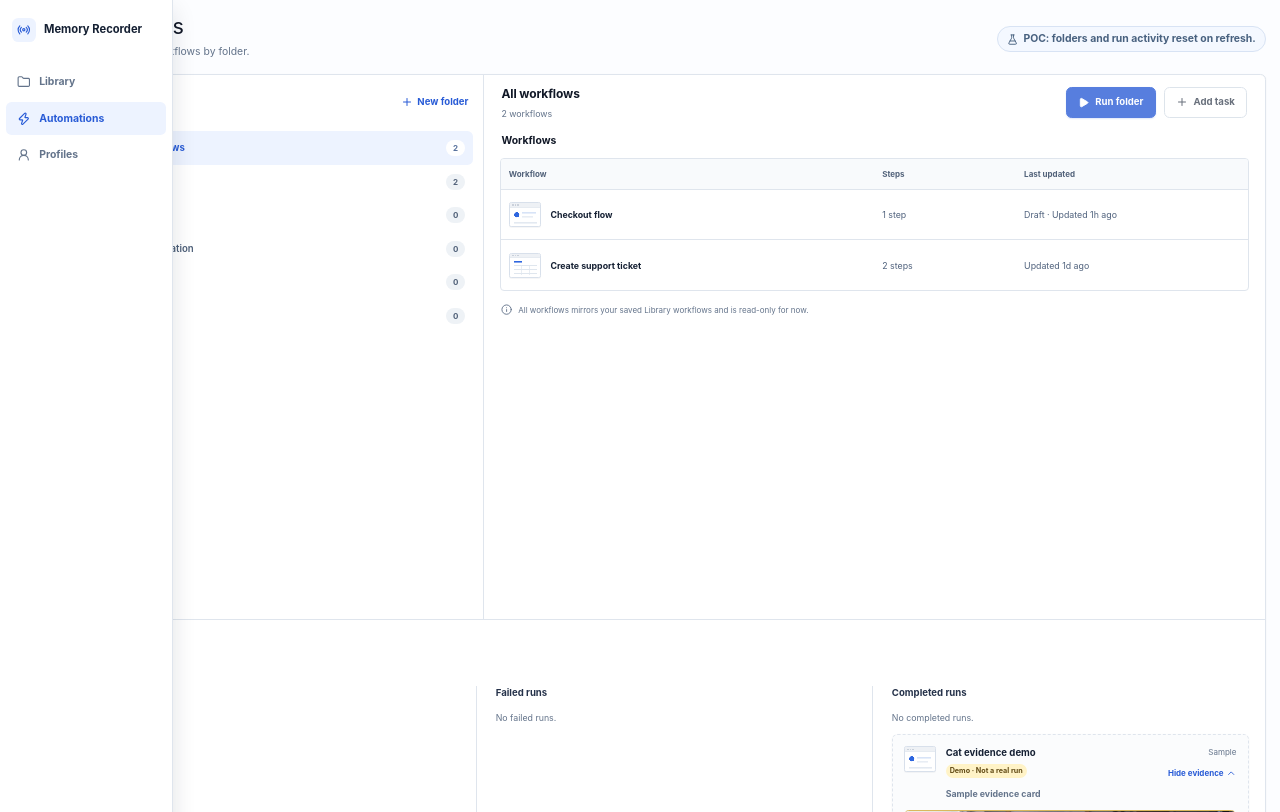
Test case: AutomationsScreen › keeps folder creation and real workflow movement in the current session
The image size is (1280, 812).
Expected: the text "Create support ticket" is shown, [550,259,641,272]
Click the button "New folder" at coordinates (435, 102), box [401,88,468,117]
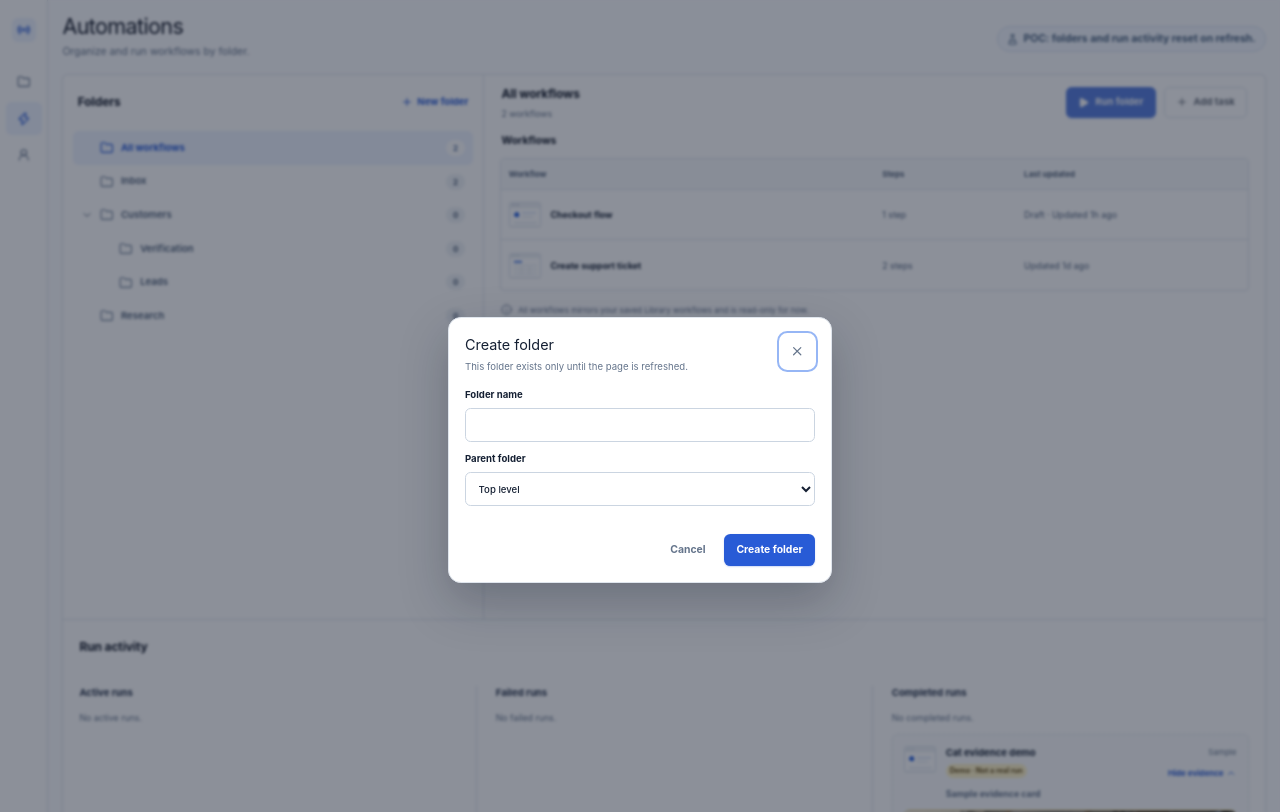
Type "Renewals" into the field labelled "Folder name" at coordinates (640, 425), box [465,408,815,442]
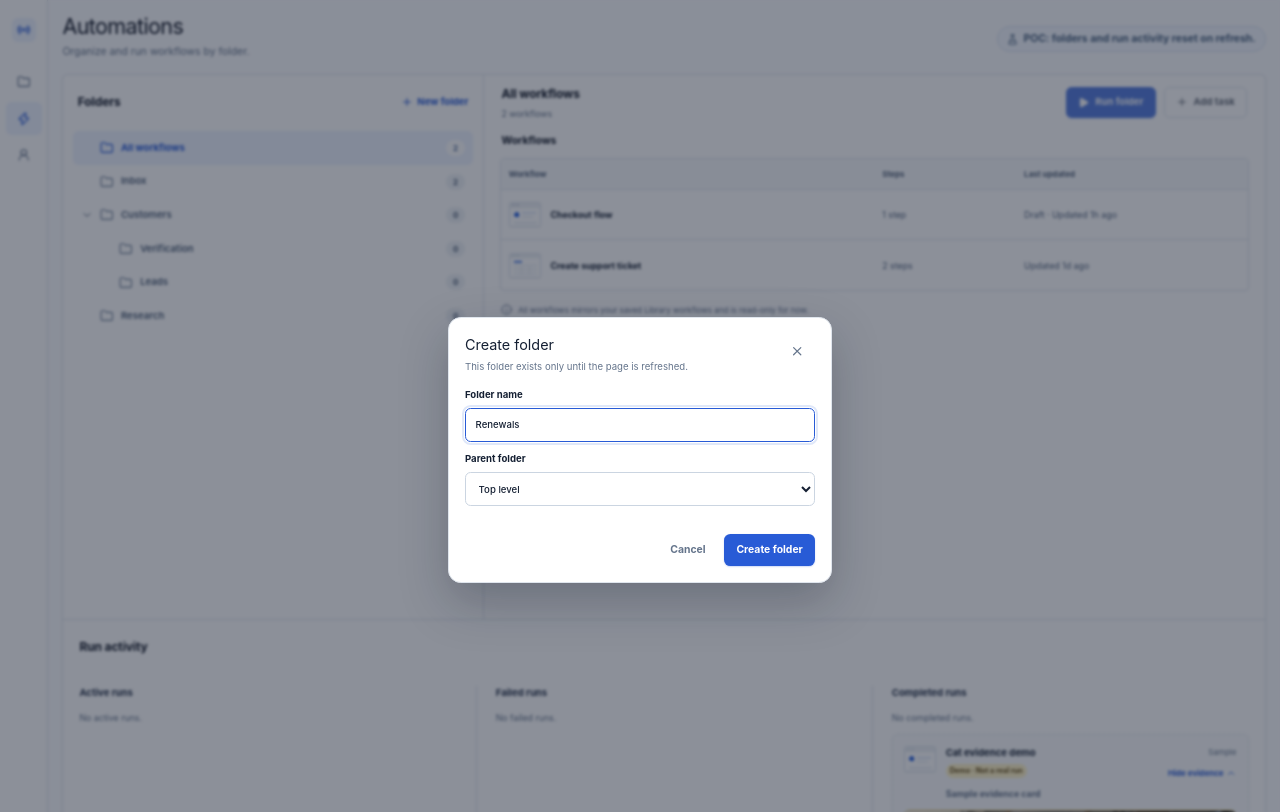
Click the button "Create folder" at coordinates (770, 550), box [724,534,815,566]
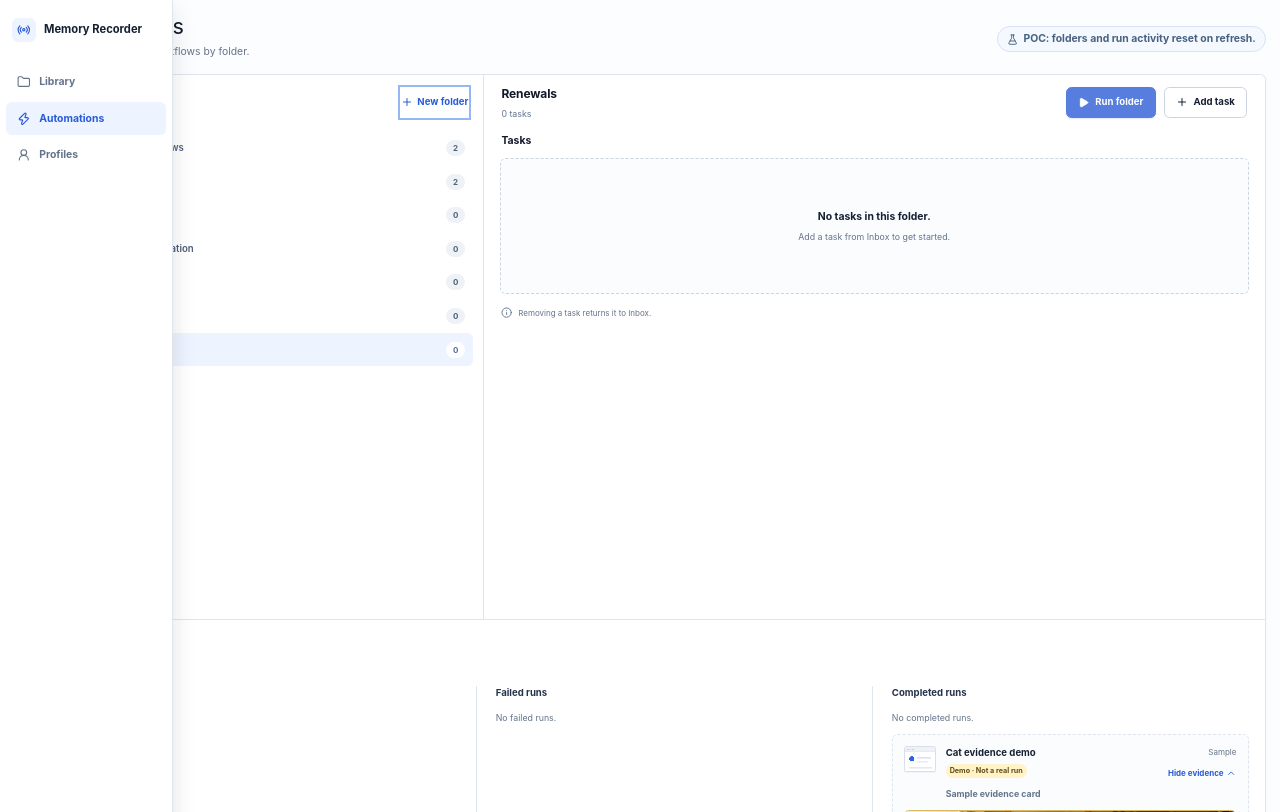
Click the button "Add task" at coordinates (1205, 102), box [1164,87,1247,118]
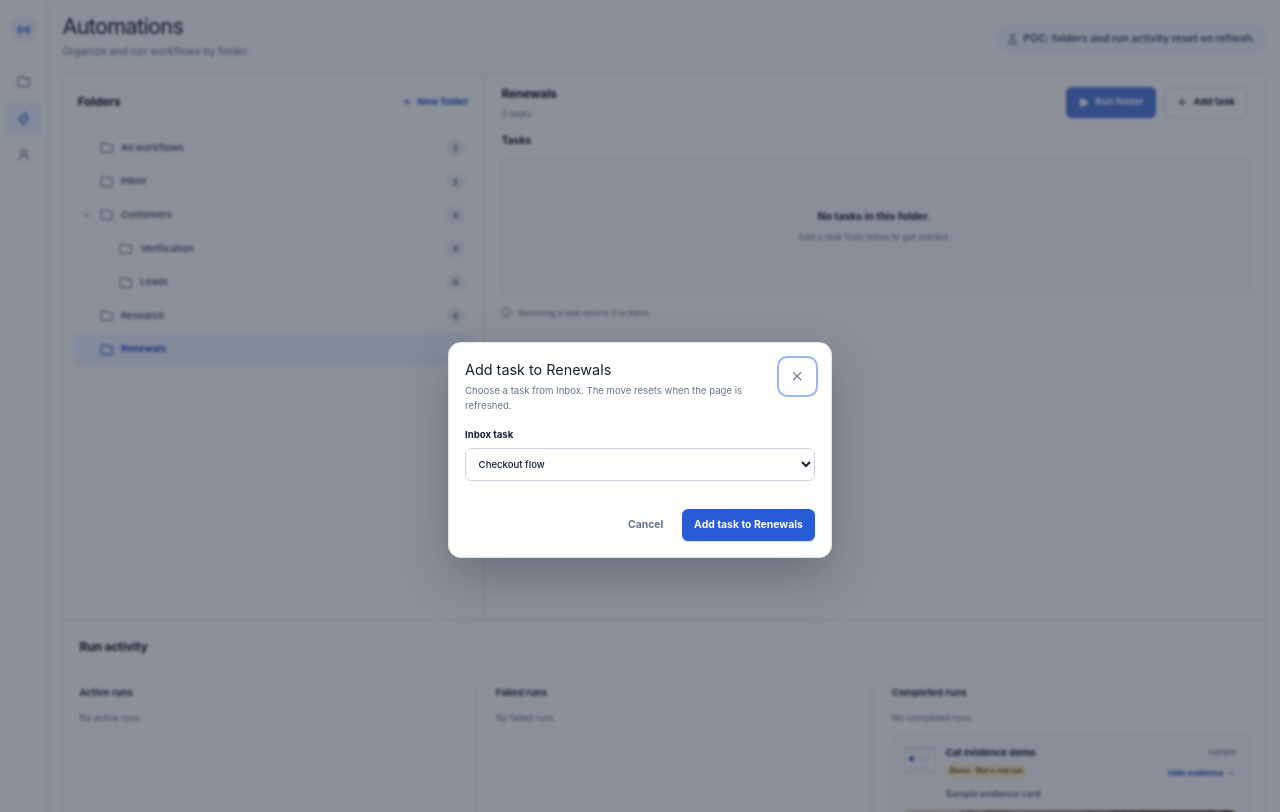
Select "Create support ticket" in the dropdown labelled "Inbox task" at coordinates (640, 464), box [465,448,815,481]
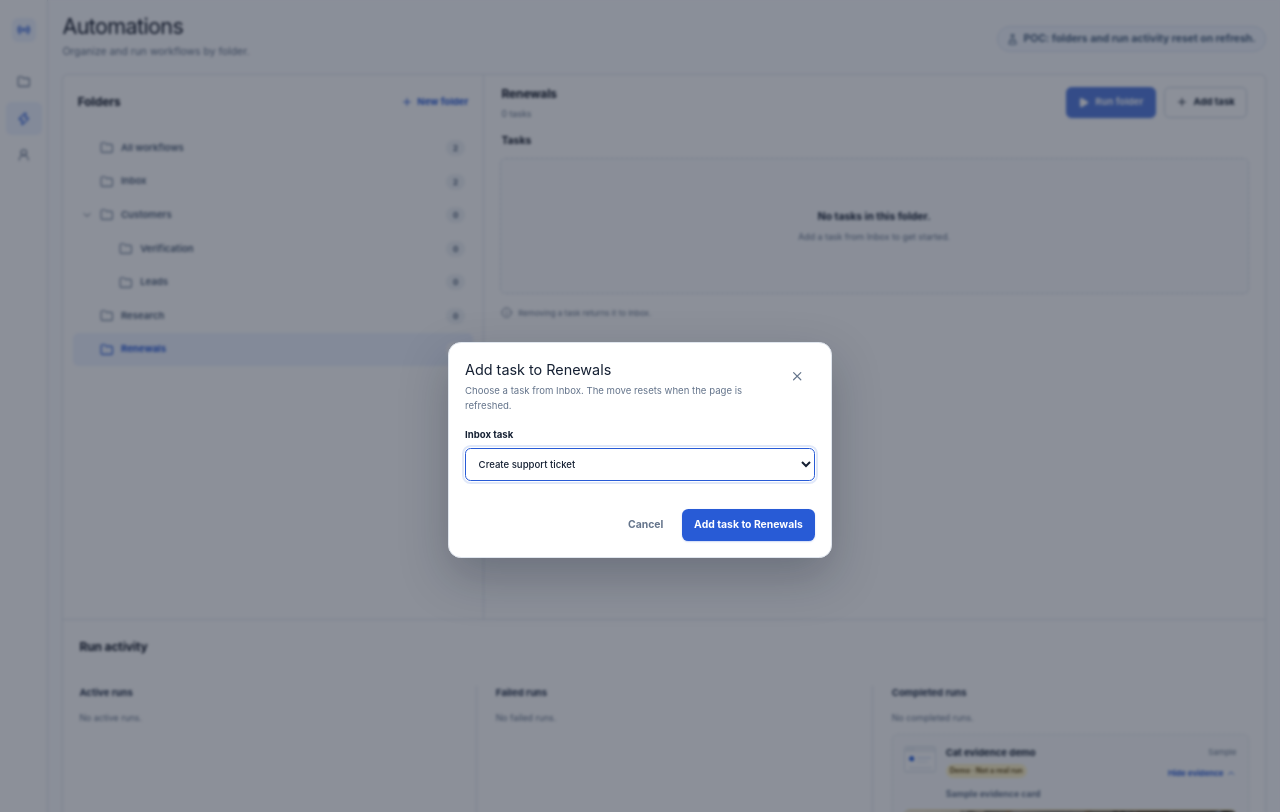
Click the button "Add task to Renewals" at coordinates (748, 525), box [682,509,815,541]
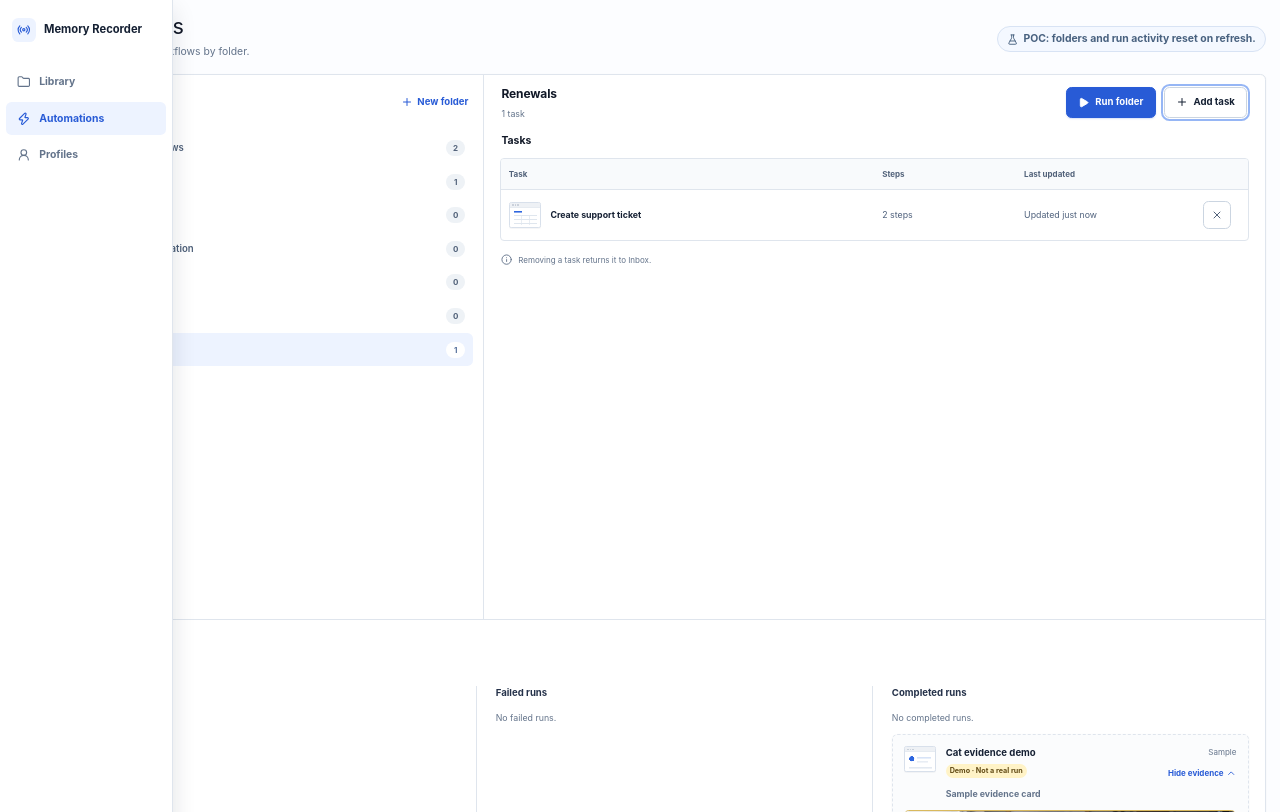
Now the element named "Renewals tasks" shows "Create support ticket", box [550,209,641,220]
Now the button "Run folder" is enabled, box [1066,87,1156,118]
